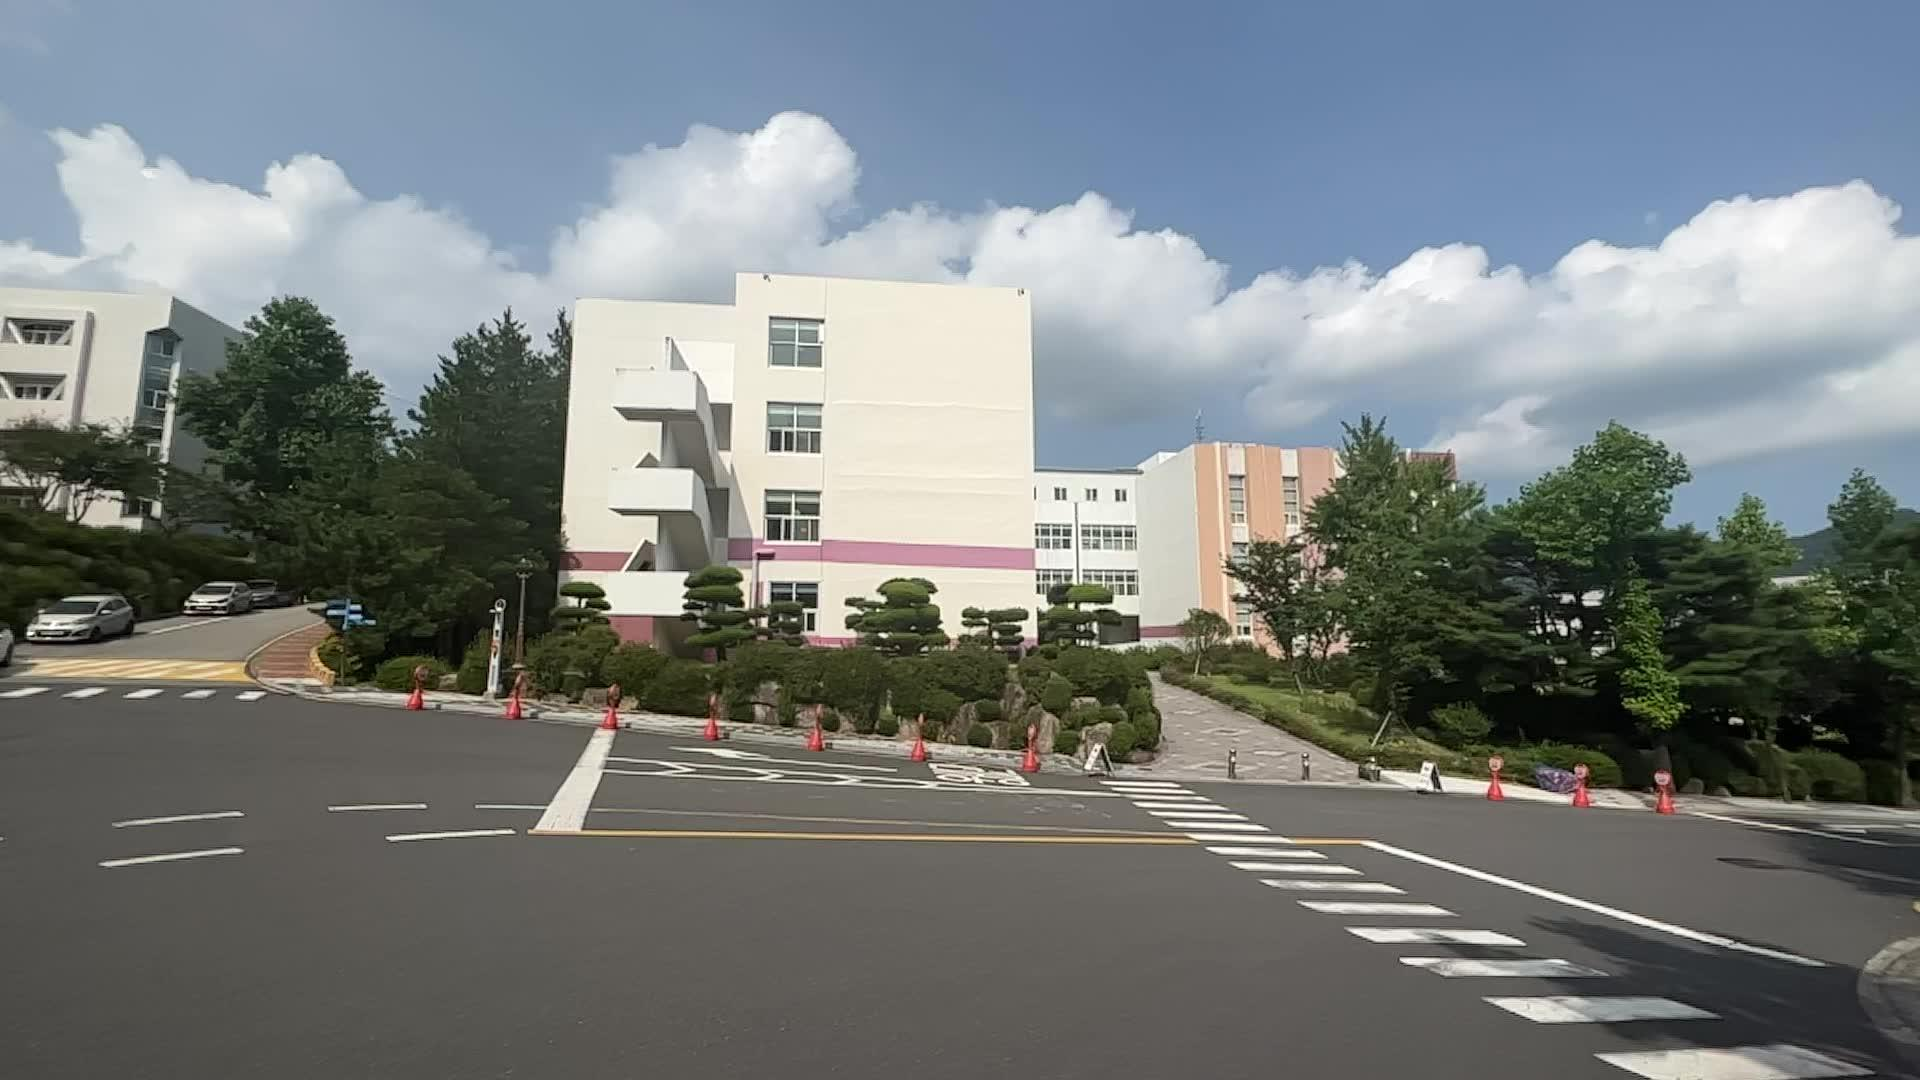building: (547, 269, 1036, 604), (1, 287, 244, 535), (1036, 444, 1342, 616)
